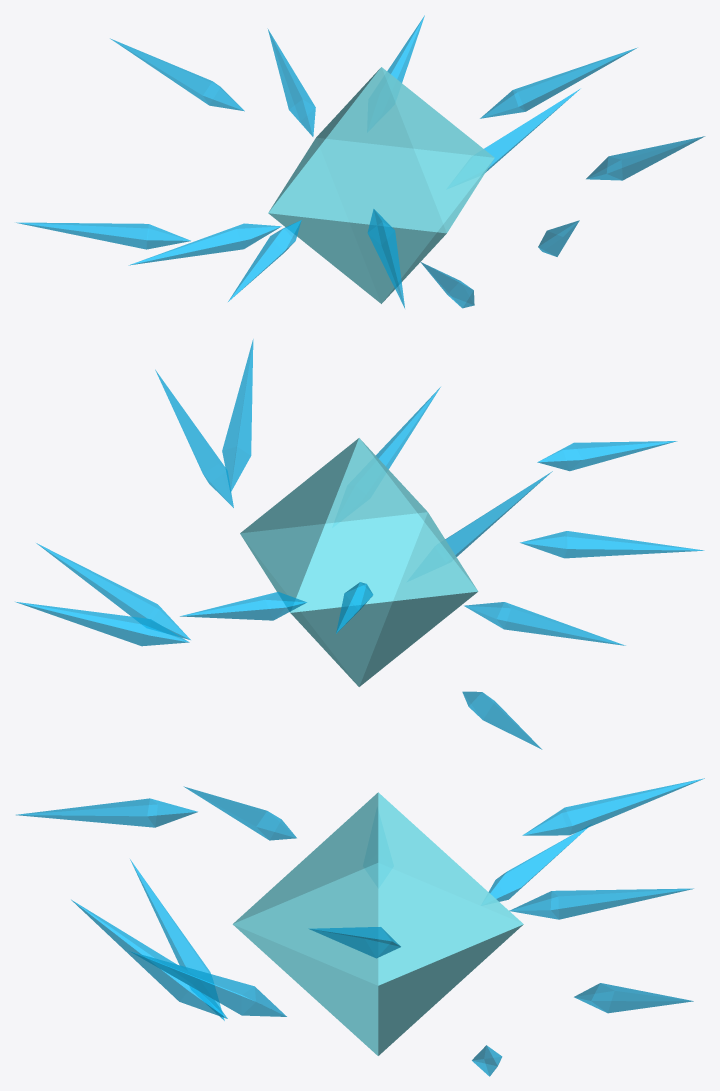
The model's file is golem_hit_crystal_shatter.obj.
3 renders of one model, top to bottom at view 1: azimuth 30°, elevation 25°; view 2: azimuth 150°, elevation 25°; view 3: azimuth 270°, elevation 25°, orthographic. The views are drawn at different scales.
Parts seen in each view (by area): view 1: impact_flash, impact_crystal_shard_9, impact_crystal_shard_4, impact_crystal_shard_10, impact_crystal_shard_8, impact_crystal_shard_3, impact_crystal_shard_7, impact_crystal_shard_12, impact_crystal_shard_11, impact_crystal_shard_5, impact_crystal_shard_1, impact_crystal_shard_2 (+1 smaller); view 2: impact_flash, impact_crystal_shard_11, impact_crystal_shard_6, impact_crystal_shard_5, impact_crystal_shard_3, impact_crystal_shard_10, impact_crystal_shard_12, impact_crystal_shard_4, impact_crystal_shard_7, impact_crystal_shard_1, impact_crystal_shard_9, impact_crystal_shard_2 (+1 smaller); view 3: impact_flash, impact_crystal_shard_2, impact_crystal_shard_7, impact_crystal_shard_3, impact_crystal_shard_8, impact_crystal_shard_12, impact_crystal_shard_1, impact_crystal_shard_6, impact_crystal_shard_11, impact_crystal_shard_9, impact_crystal_shard_4, impact_crystal_shard_5.
Boxes of the visible parts, x1=… form: impact_flash: x1=268, y1=67, x2=494, y2=303; impact_crystal_shard_9: x1=16, y1=222, x2=190, y2=249; impact_crystal_shard_4: x1=480, y1=47, x2=637, y2=118; impact_crystal_shard_10: x1=128, y1=223, x2=281, y2=265; impact_crystal_shard_8: x1=110, y1=38, x2=244, y2=111; impact_crystal_shard_3: x1=586, y1=136, x2=705, y2=180; impact_crystal_shard_7: x1=267, y1=28, x2=315, y2=136; impact_crystal_shard_12: x1=367, y1=209, x2=404, y2=308; impact_crystal_shard_11: x1=228, y1=220, x2=301, y2=301; impact_crystal_shard_5: x1=484, y1=88, x2=580, y2=172; impact_crystal_shard_1: x1=420, y1=262, x2=474, y2=308; impact_crystal_shard_2: x1=538, y1=220, x2=579, y2=256; impact_flash: x1=240, y1=438, x2=478, y2=686; impact_crystal_shard_11: x1=520, y1=531, x2=704, y2=558; impact_crystal_shard_6: x1=15, y1=601, x2=189, y2=646; impact_crystal_shard_5: x1=36, y1=543, x2=190, y2=639; impact_crystal_shard_3: x1=222, y1=339, x2=253, y2=491; impact_crystal_shard_10: x1=464, y1=602, x2=625, y2=645; impact_crystal_shard_12: x1=537, y1=441, x2=677, y2=471; impact_crystal_shard_4: x1=155, y1=369, x2=233, y2=507; impact_crystal_shard_7: x1=180, y1=591, x2=306, y2=620; impact_crystal_shard_1: x1=445, y1=471, x2=552, y2=556; impact_crystal_shard_9: x1=462, y1=691, x2=542, y2=749; impact_crystal_shard_2: x1=376, y1=387, x2=440, y2=469; impact_flash: x1=232, y1=792, x2=523, y2=1055; impact_crystal_shard_2: x1=71, y1=899, x2=227, y2=1018; impact_crystal_shard_7: x1=509, y1=888, x2=693, y2=919; impact_crystal_shard_3: x1=129, y1=951, x2=286, y2=1016; impact_crystal_shard_8: x1=522, y1=778, x2=704, y2=835; impact_crystal_shard_12: x1=16, y1=798, x2=197, y2=827; impact_crystal_shard_1: x1=130, y1=859, x2=224, y2=1020; impact_crystal_shard_6: x1=574, y1=983, x2=693, y2=1013; impact_crystal_shard_11: x1=183, y1=786, x2=296, y2=840; impact_crystal_shard_9: x1=489, y1=826, x2=588, y2=901; impact_crystal_shard_4: x1=308, y1=927, x2=400, y2=958; impact_crystal_shard_5: x1=472, y1=1045, x2=502, y2=1076.
Size of the model in its own units: 1.3 by 0.56 by 1.33.
